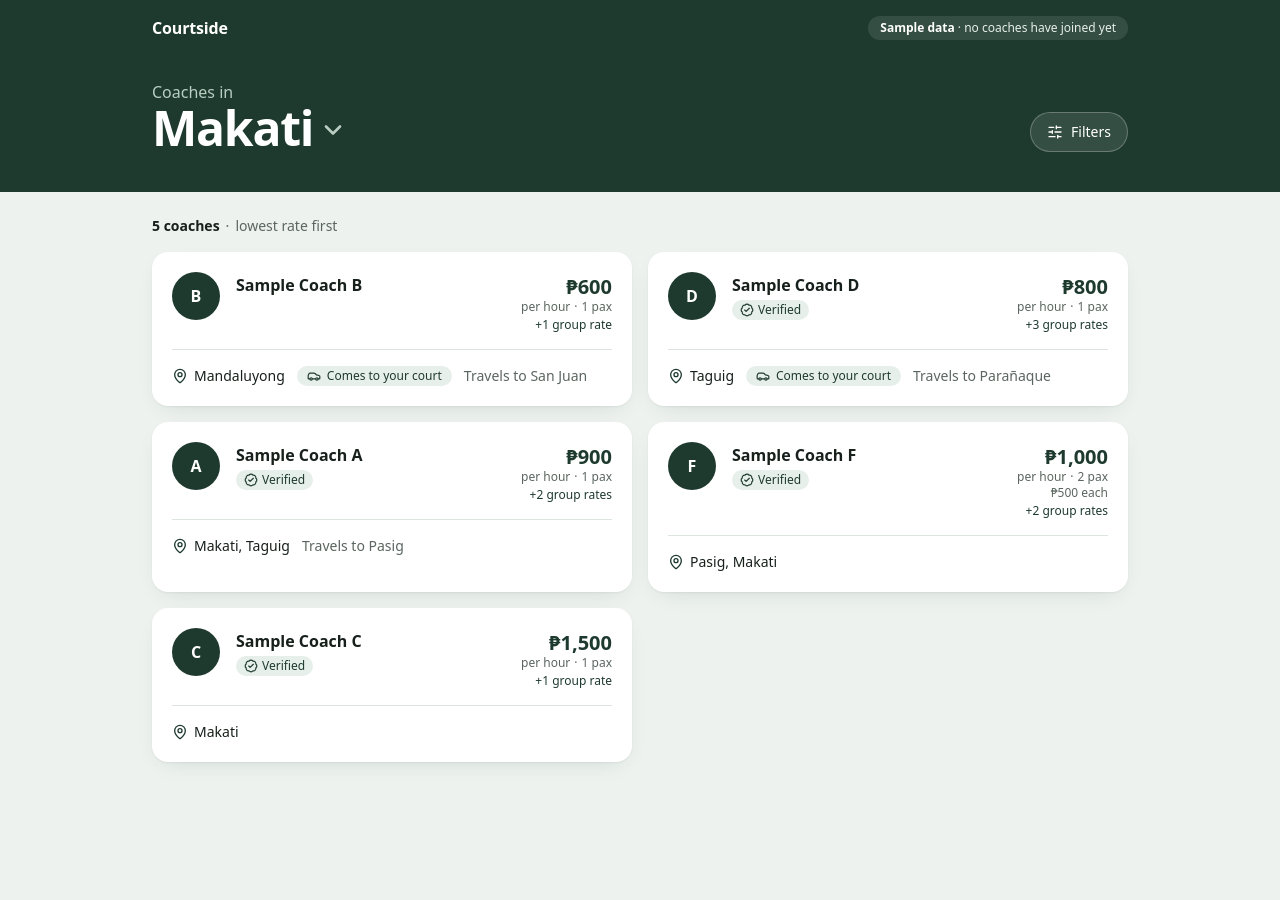
it: coach search page › changes city from the page title
This screenshot has width=1280, height=900.
Click the dropdown named "Change city": click(250, 128) [148, 104, 351, 152]
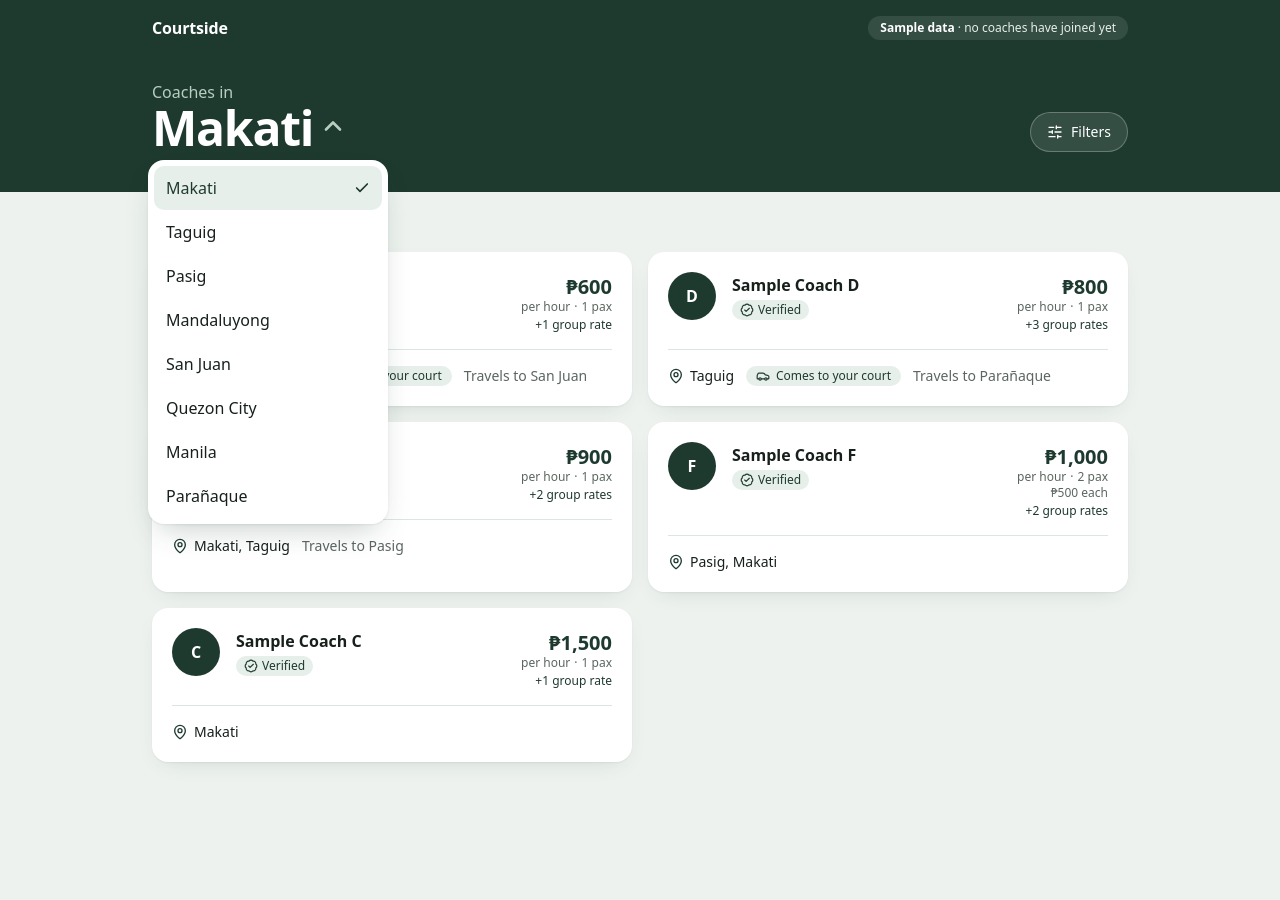
Click the option "Quezon City": click(211, 408) [166, 397, 257, 419]
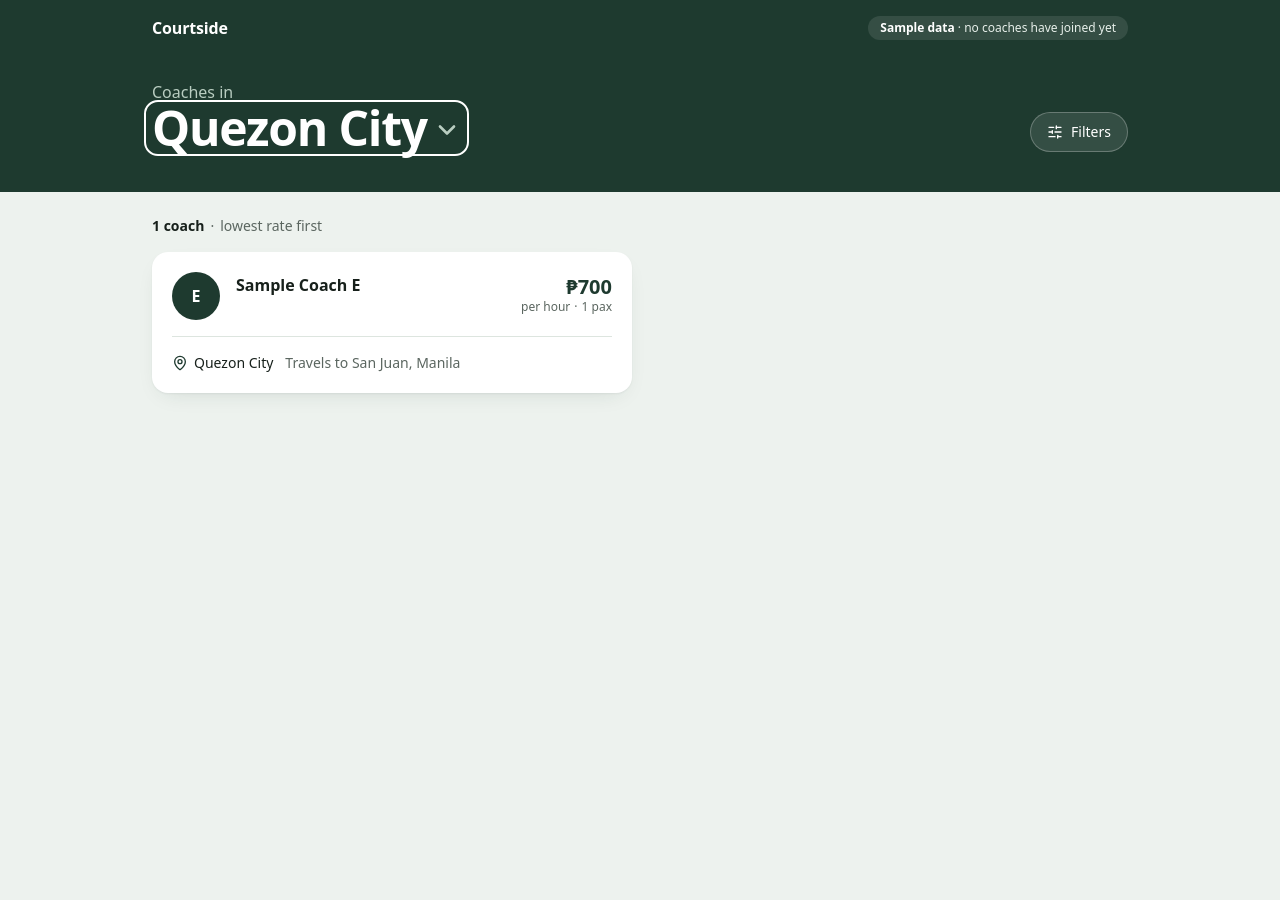
Check: the heading "Coaches in Quezon City" is shown, box [152, 80, 465, 152]
Check: the heading "1 coach·lowest rate first" is shown, box [152, 216, 322, 235]
